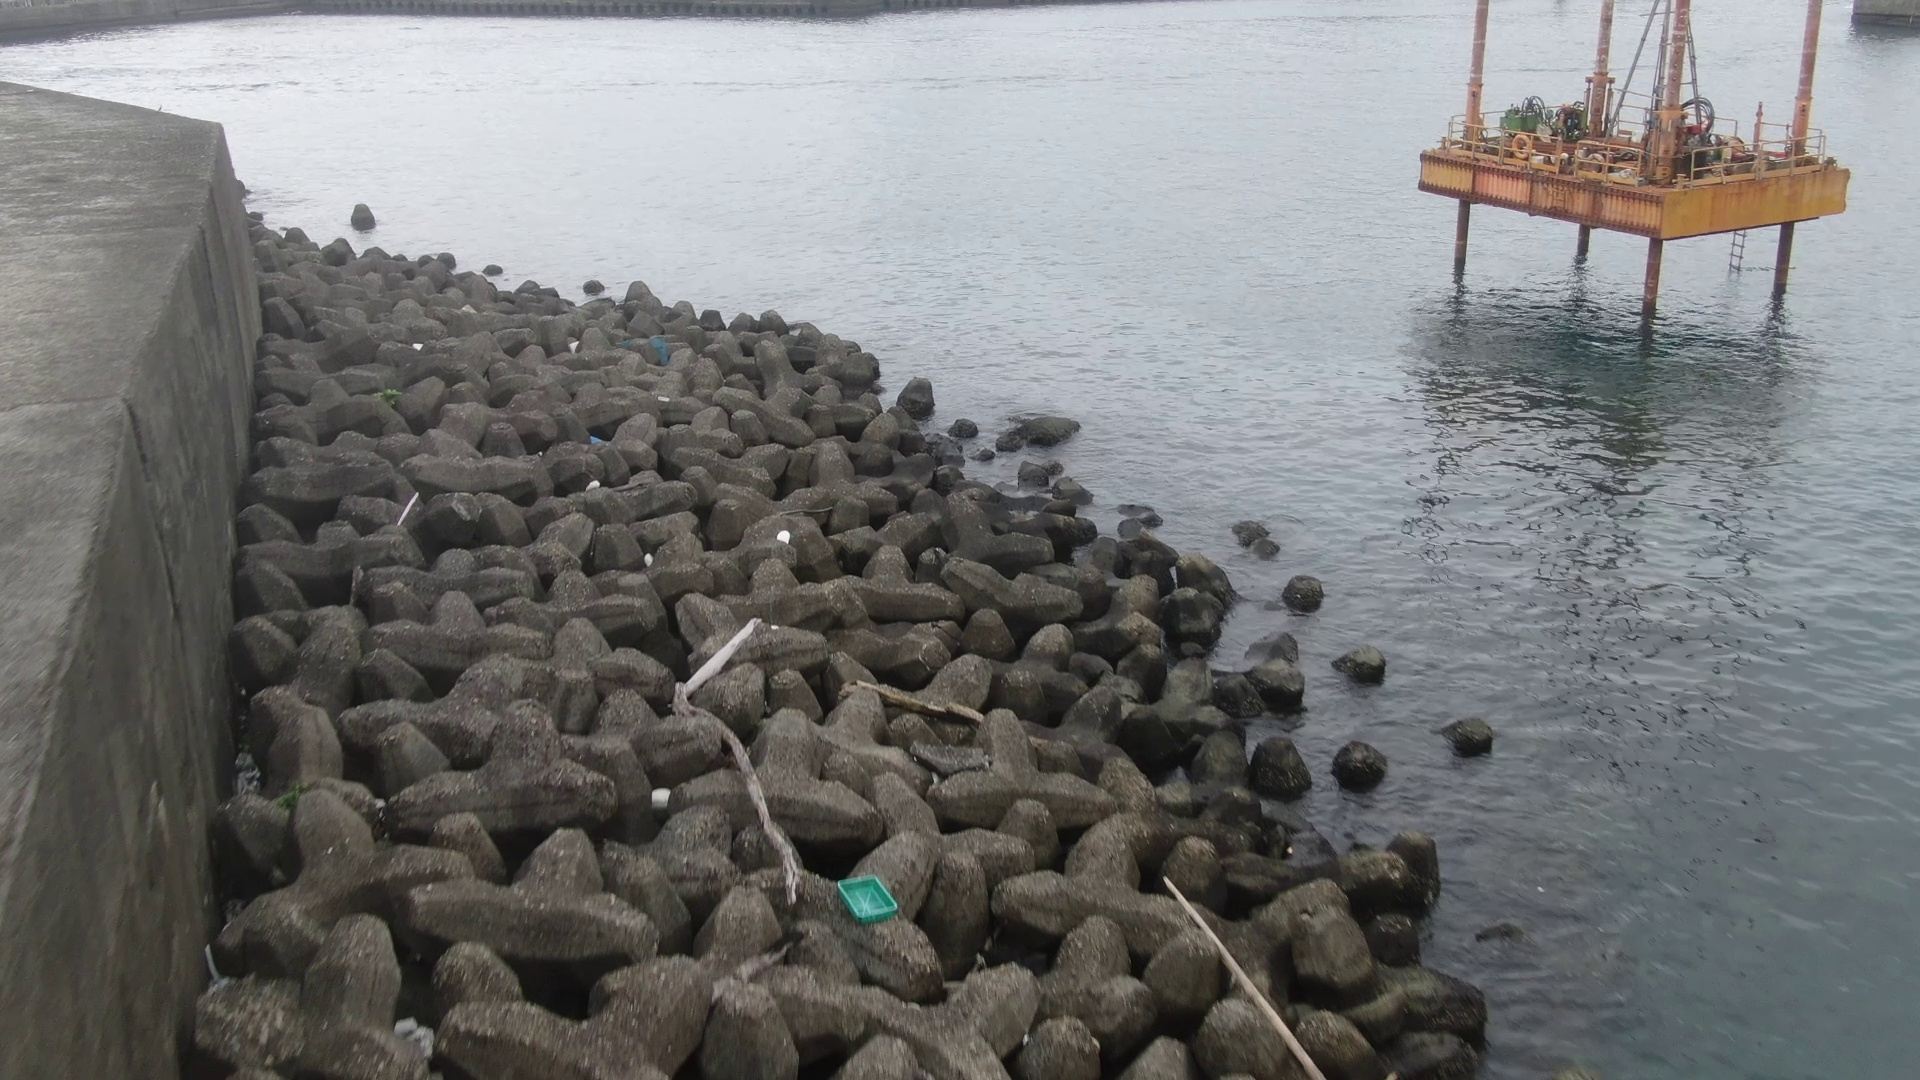garbage: (823, 872, 913, 926)
